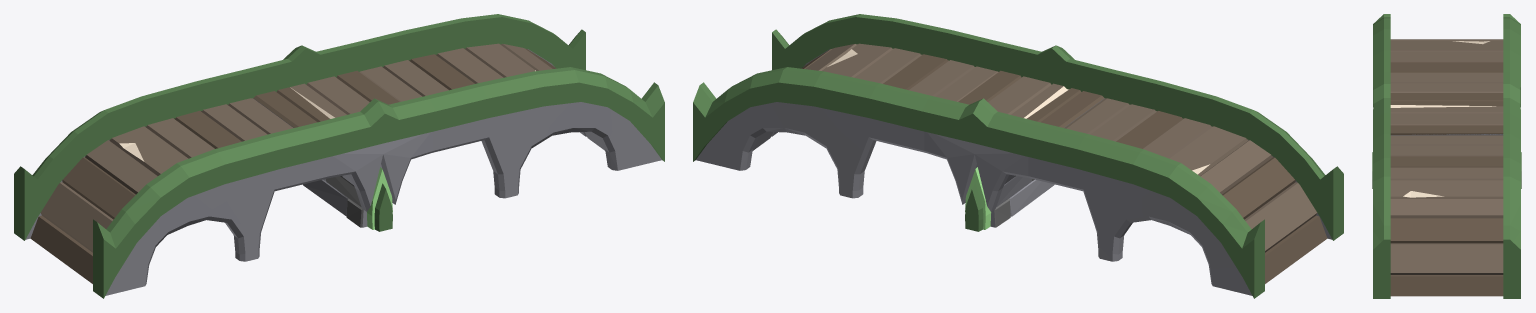
The model's file is bridge_full.fbx.
3 views of the same model, side by side, from view 1: azimuth 30°, elevation 25°; view 2: azimuth 150°, elevation 25°; view 3: azimuth 270°, elevation 25° (orthographic). The views are drawn at different scales.
Parts seen in each view (by area): view 1: beidge_edge, beidge_edge1, bridge_middle_01; view 2: beidge_edge, beidge_edge1, bridge_middle_01; view 3: beidge_edge1, beidge_edge, bridge_middle_01.
Part boxes in pixels (box(x1,y1,x2,y2)): beidge_edge: box(14, 68, 332, 298); beidge_edge1: box(353, 14, 664, 198); bridge_middle_01: box(249, 43, 436, 231); beidge_edge: box(1025, 68, 1343, 298); beidge_edge1: box(693, 14, 1004, 198); bridge_middle_01: box(921, 43, 1108, 231); beidge_edge1: box(1373, 113, 1520, 298); beidge_edge: box(1373, 14, 1520, 92); bridge_middle_01: box(1372, 71, 1521, 188).
Size of the model in its own units: 1869 by 395 by 524.
